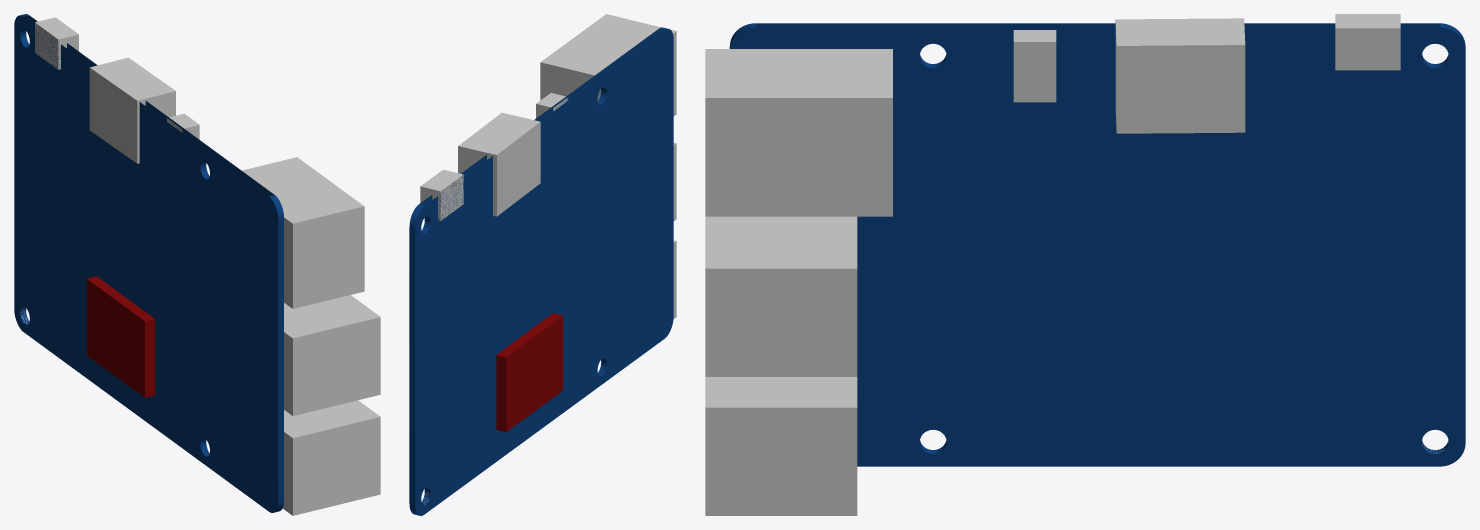
File: odroid_very_simple.dae
3 views of the same model, side by side, from view 1: azimuth 30°, elevation 25°; view 2: azimuth 150°, elevation 25°; view 3: azimuth 270°, elevation 25° (orthographic). The views are drawn at different scales.
Parts seen in each view (by area): view 1: SketchUp (×8); view 2: SketchUp (×7); view 3: SketchUp (×7).
Boxes of the visible parts, x1,y1,x2,y2 form: SketchUp (×8): (14, 14, 380, 515); SketchUp (×7): (409, 14, 676, 515); SketchUp (×7): (705, 14, 1465, 515).
Size of the model in its own units: 0.7618 by 3.46 by 2.24.
